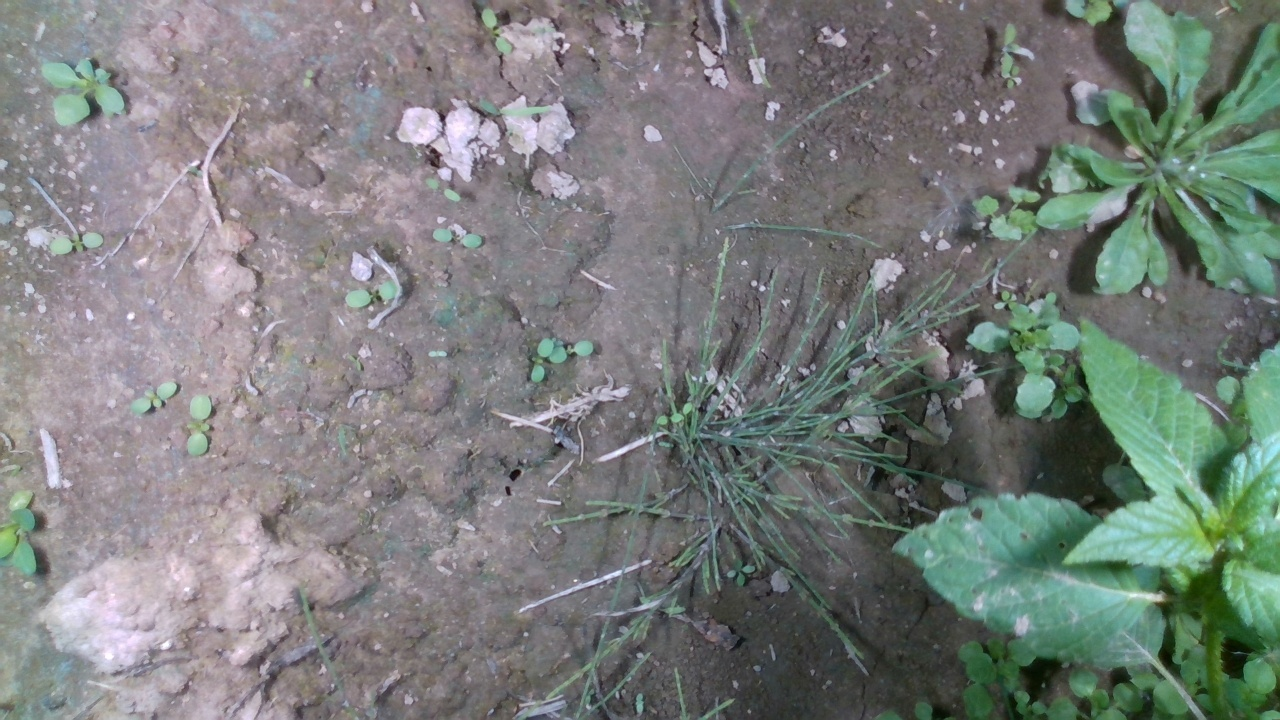weed: (40, 55, 126, 125), (185, 392, 213, 456), (128, 380, 179, 415), (480, 7, 514, 57), (344, 279, 399, 309), (46, 231, 104, 255), (430, 227, 484, 248), (424, 177, 461, 204), (301, 67, 315, 87)
